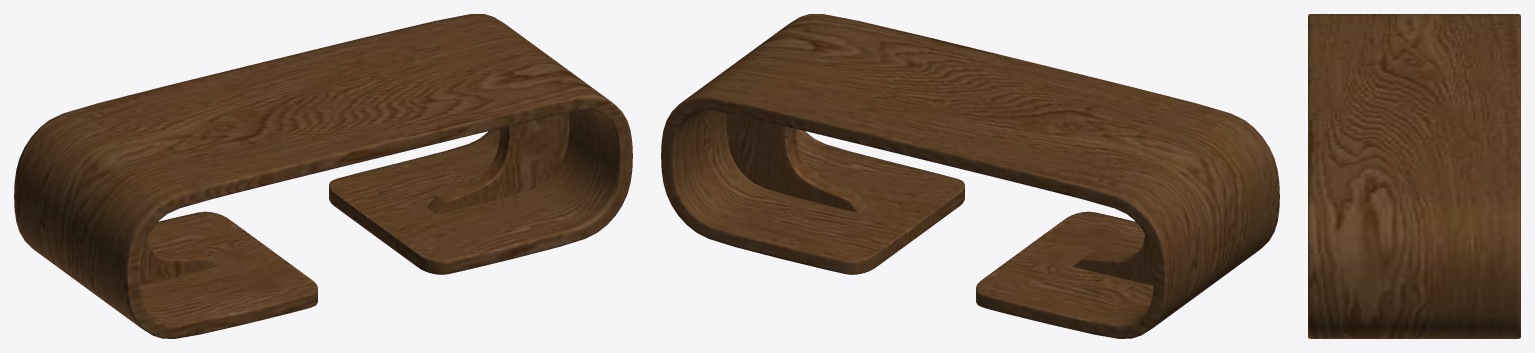
Rendered from Table38.glb.
3 views of the same model, side by side, from view 1: azimuth 30°, elevation 25°; view 2: azimuth 150°, elevation 25°; view 3: azimuth 270°, elevation 25° (orthographic). The views are drawn at different scales.
Parts seen in each view (by area): view 1: Table38_model; view 2: Table38_model; view 3: Table38_model.
Part boxes in pixels (<box>): Table38_model: <box>14,14,632,338</box>; Table38_model: <box>661,14,1279,338</box>; Table38_model: <box>1308,14,1520,338</box>.
Bounding box in the file's own units: 3.07 × 0.8551 × 1.2.
1 material, 1 textured.
